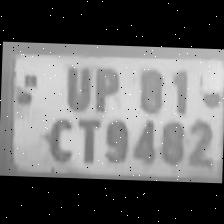0: (130, 64, 166, 112)
1: (164, 64, 194, 113)
2: (183, 112, 215, 170)
4: (128, 114, 158, 166)
8: (154, 113, 186, 165)
9: (100, 114, 130, 164)
C: (40, 112, 74, 162)
P: (88, 64, 124, 112)
T: (71, 113, 102, 164)
U: (60, 62, 94, 113)
